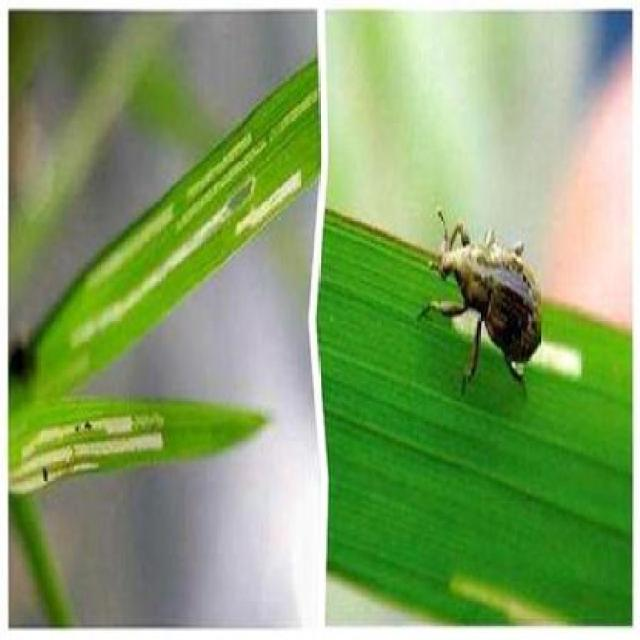rice-bug: (422, 213, 542, 381)
